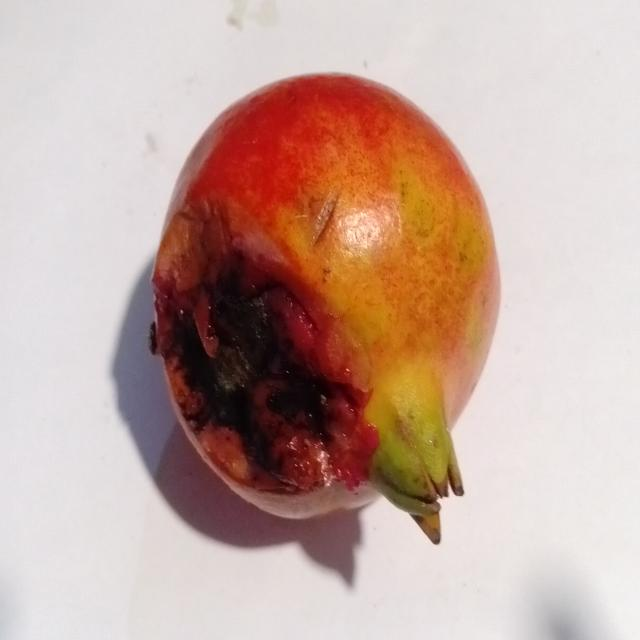Rotten: (149, 63, 506, 550)
